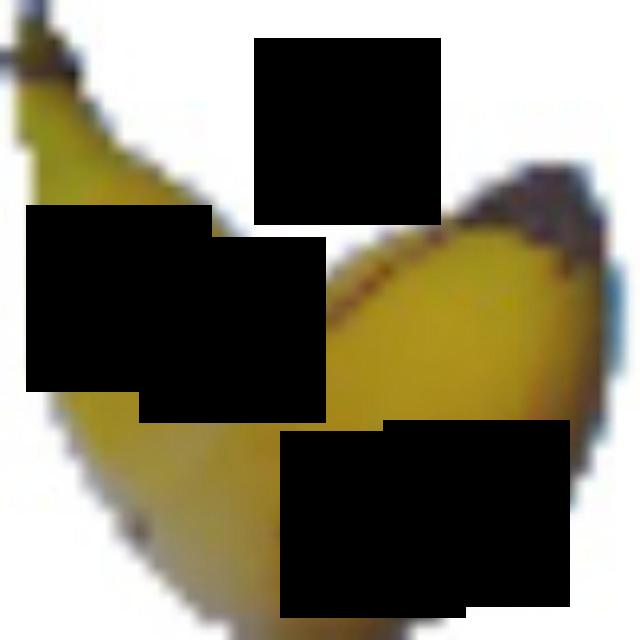banana: (0, 0, 614, 633)
